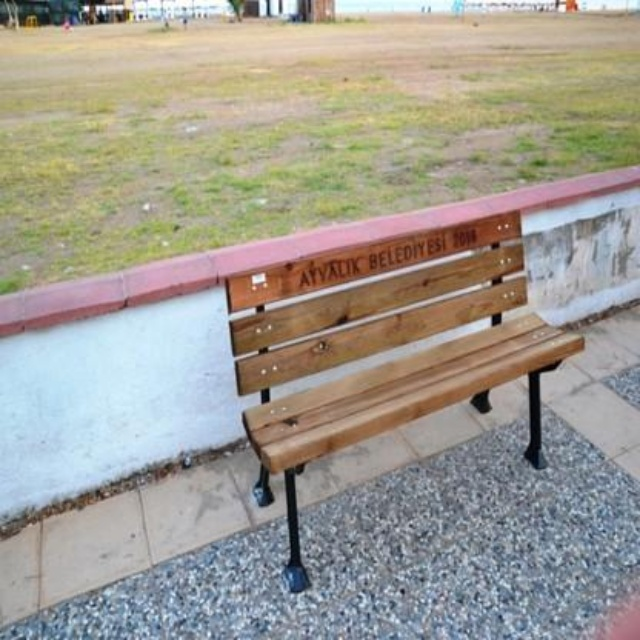obstacle: (215, 182, 585, 595)
